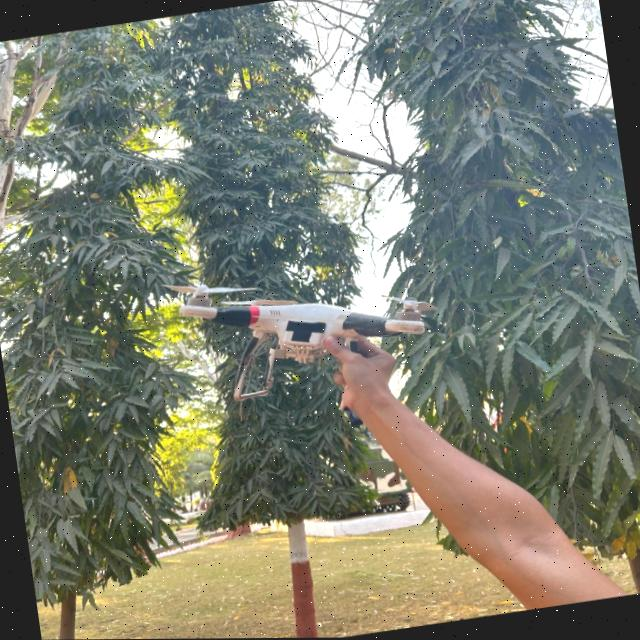drone: (120, 218, 486, 443)
